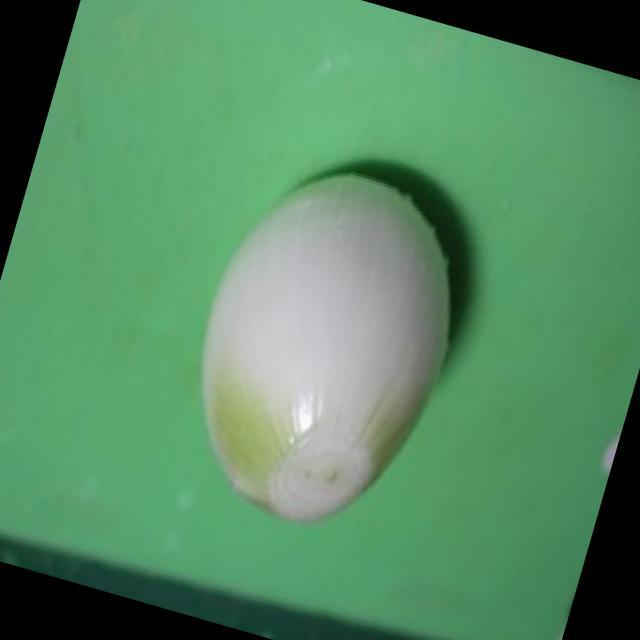Onion: (204, 171, 452, 528)
